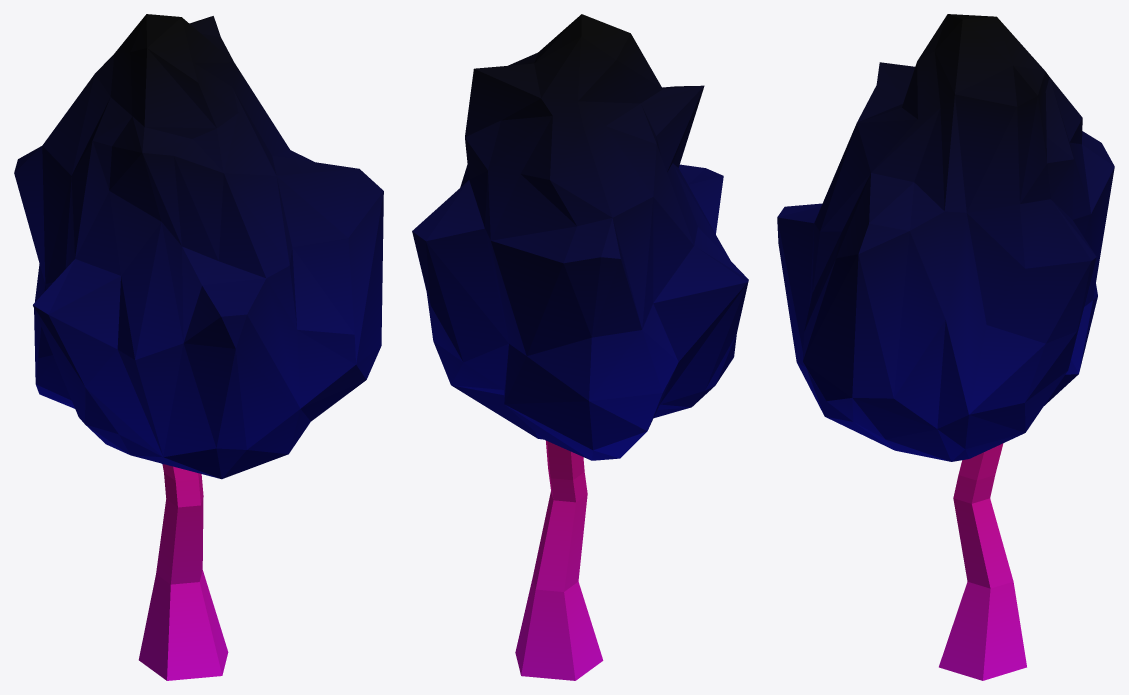
Rendered from synty-tree-02.gltf.
3 renders of one model, left to right at view 1: azimuth 30°, elevation 25°; view 2: azimuth 150°, elevation 25°; view 3: azimuth 270°, elevation 25°, orthographic. The views are drawn at different scales.
Parts seen in each view (by area): view 1: SM_Tree_02; view 2: SM_Tree_02; view 3: SM_Tree_02.
Part boxes in pixels (left/top/right/bottom): SM_Tree_02: left=14, top=14, right=383, bottom=680; SM_Tree_02: left=412, top=14, right=748, bottom=680; SM_Tree_02: left=777, top=14, right=1114, bottom=680.
Bounding box in the file's own units: 3.06 × 6.25 × 3.01.
